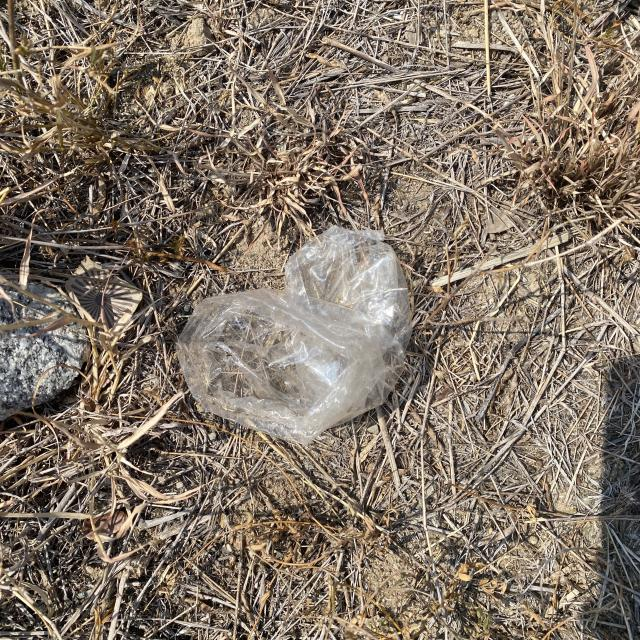Single-layer Plastic: (175, 227, 414, 448)
